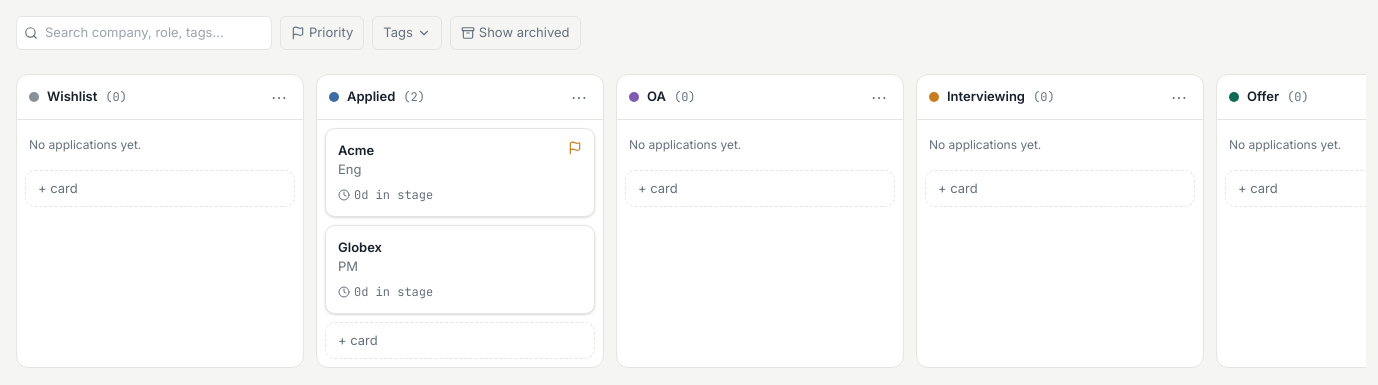
Test: KanbanBoard › column counts reflect the active filters (priority toggle)
expect the text "(2)" is shown: met, box [403,88,425,106]
Click the button "Priority": [322, 33] box [280,16,364,50]
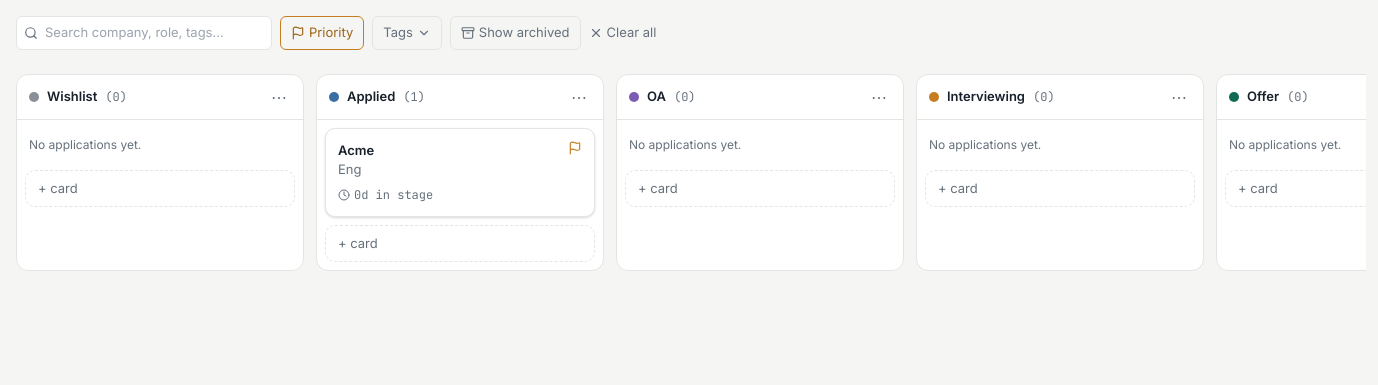
expect the text "Acme" is shown: met, box [338,140,374,160]
expect the text "(1)" is shown: met, box [403,88,425,106]
expect the button "Globex" is gone: met
